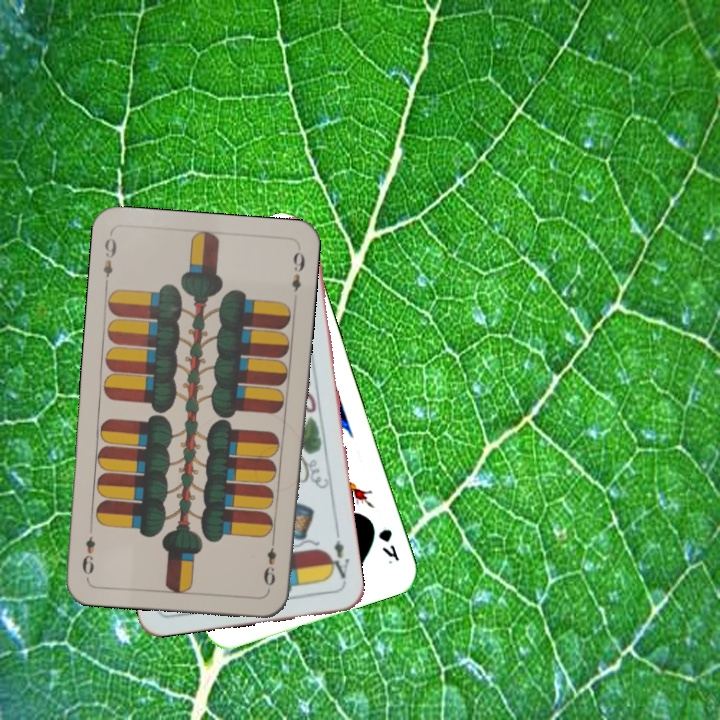E9: (259, 534, 279, 593), (99, 234, 120, 289)
EA: (324, 527, 352, 586)
GK: (374, 525, 402, 567)
